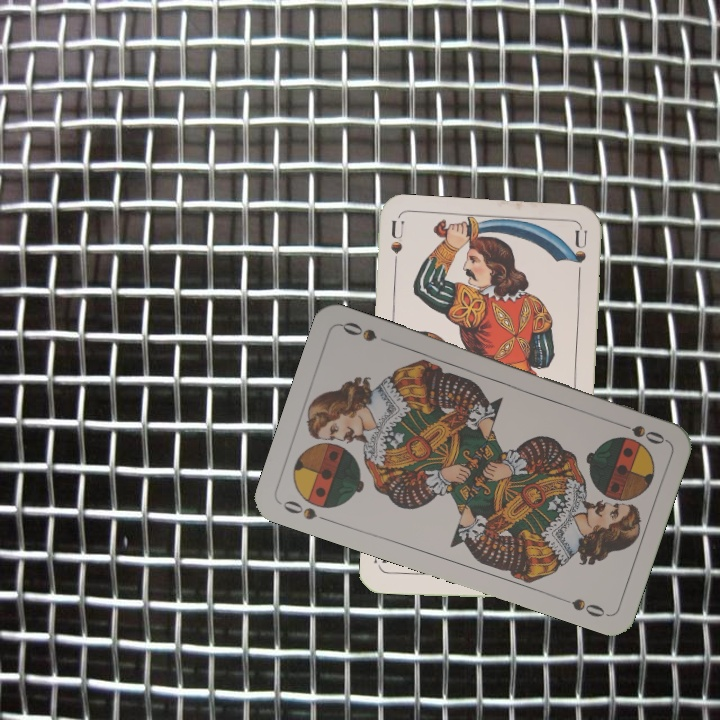SO: (610, 417, 668, 447), (278, 496, 334, 525)
SU: (387, 218, 406, 278)
